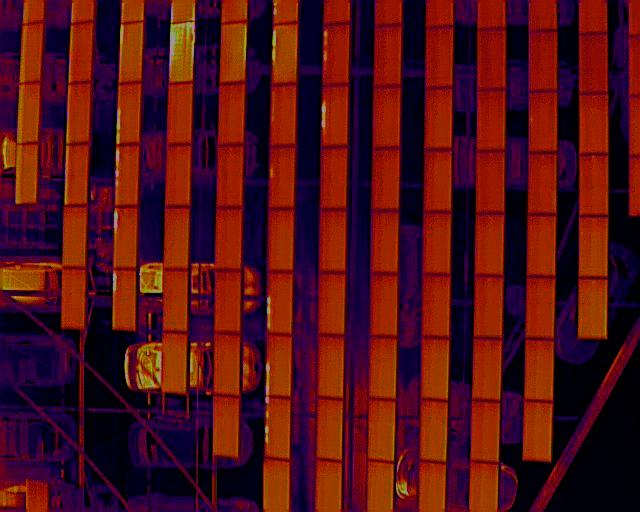Cell: (268, 147, 297, 210)
Cell-Multi: (264, 398, 292, 460)
No-Anomaly: (474, 276, 505, 340), (523, 340, 555, 402), (372, 24, 403, 87), (475, 214, 506, 277), (528, 29, 558, 94), (318, 146, 348, 210), (526, 276, 556, 339), (527, 90, 557, 153), (579, 93, 609, 156), (527, 151, 557, 214), (422, 273, 451, 338), (214, 270, 243, 335), (474, 336, 503, 401), (478, 29, 507, 94), (372, 84, 401, 149), (477, 150, 506, 215), (580, 154, 609, 219), (370, 274, 399, 338), (422, 337, 451, 401), (422, 212, 451, 276), (472, 402, 502, 463), (523, 401, 553, 462), (579, 217, 609, 278), (420, 400, 449, 463), (579, 277, 608, 340), (369, 337, 398, 400), (216, 207, 245, 270), (162, 208, 191, 271), (220, 21, 248, 86), (319, 209, 347, 274), (426, 27, 454, 91), (371, 147, 399, 211), (371, 211, 399, 275), (528, 214, 556, 278), (268, 84, 296, 147), (216, 145, 244, 208), (267, 209, 295, 272), (479, 87, 506, 152), (317, 335, 344, 399), (68, 19, 95, 83), (425, 86, 452, 150), (580, 32, 608, 93), (214, 334, 241, 397), (162, 333, 189, 396), (369, 399, 396, 462), (425, 148, 451, 213), (162, 267, 188, 332), (319, 272, 346, 334), (317, 397, 343, 461), (220, 80, 245, 146), (166, 144, 192, 207), (167, 83, 193, 145), (19, 21, 44, 85), (65, 143, 90, 207), (62, 267, 87, 330), (68, 81, 92, 146), (215, 396, 240, 458), (16, 82, 41, 144), (62, 206, 87, 268), (15, 141, 38, 204)
Unclassified: (266, 271, 294, 336), (322, 24, 351, 85), (271, 24, 298, 87), (322, 85, 349, 148), (266, 336, 292, 398), (114, 206, 139, 270), (119, 22, 144, 85), (170, 21, 195, 84), (117, 82, 142, 145), (115, 144, 140, 206), (112, 269, 136, 330)
